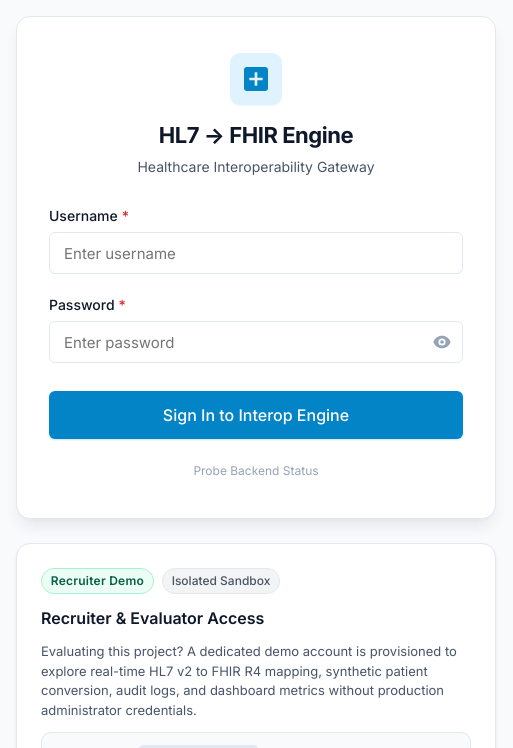
Test: LoginPage › displays cold start timeout error message properly
The width and height of the screenshot is (513, 748).
In the field labelled "Username *": (256, 253) left=49, top=232, right=463, bottom=274, type "demo_recruiter"
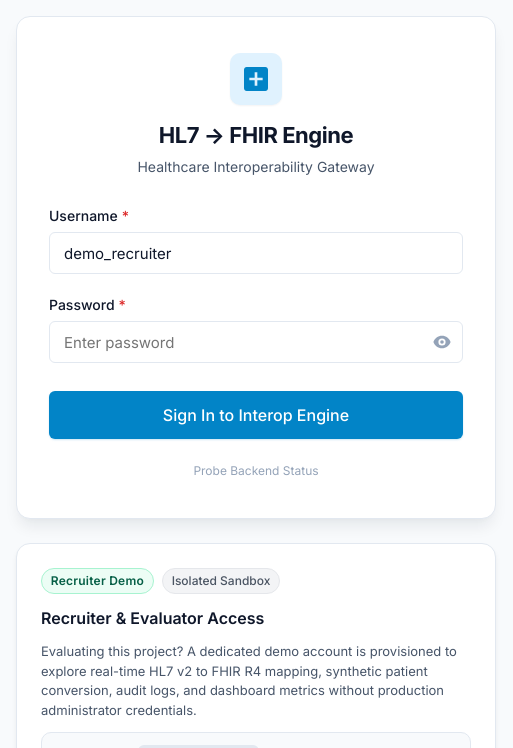
In the password field labelled "Password *": (256, 342) left=49, top=321, right=463, bottom=363, type "DemoPass123!"
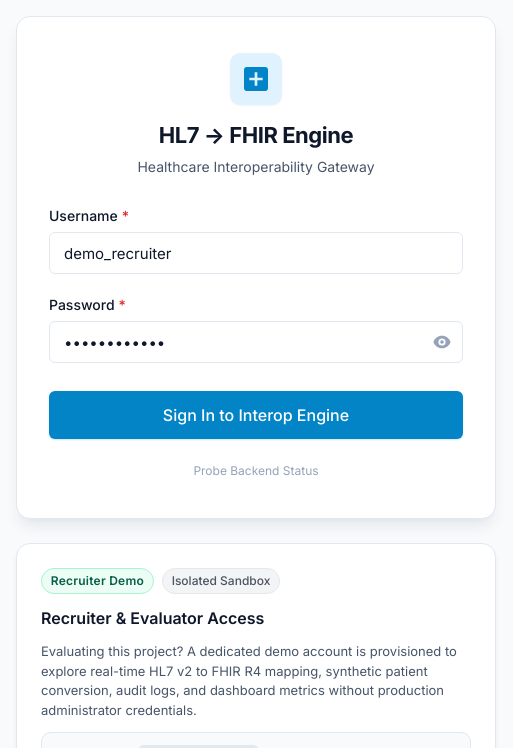
Click the button "Sign In to Interop Engine": (256, 415) left=49, top=391, right=463, bottom=439
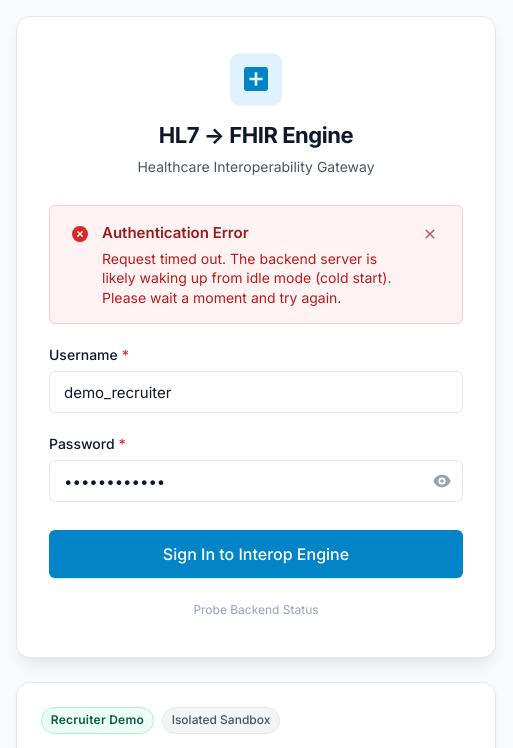
Check: the text "waking up from idle mode (cold start)" is shown, box left=102, top=250, right=392, bottom=306
